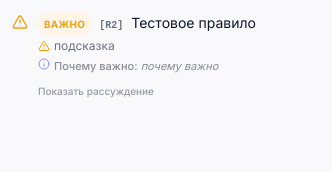
Test: RuleList — reasoning (chain-of-thought) › раскрывается по клику
Click the button with test id "rule-reasoning-toggle-R2" at (96, 91), box top-left (38, 81), bottom-right (154, 101)
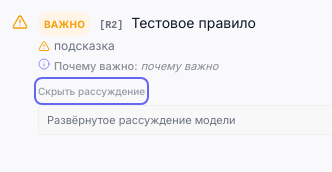
Now the text with test id "rule-reasoning-R2" shows "Развёрнутое рассуждение", box top-left (47, 113), bottom-right (236, 127)
